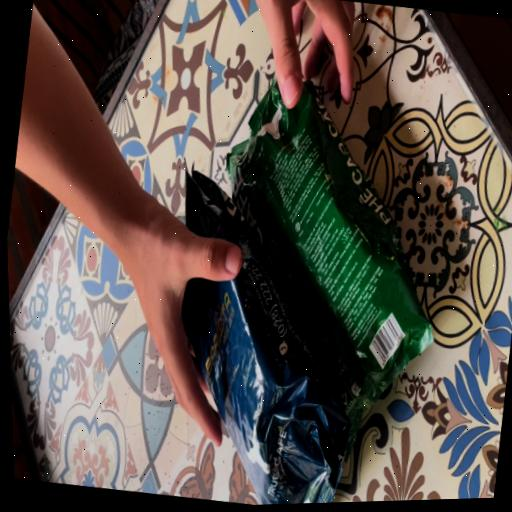cafe_hat: (183, 171, 350, 505)
cafe_xay: (227, 81, 433, 427)
ly_giay: (227, 81, 433, 450)
